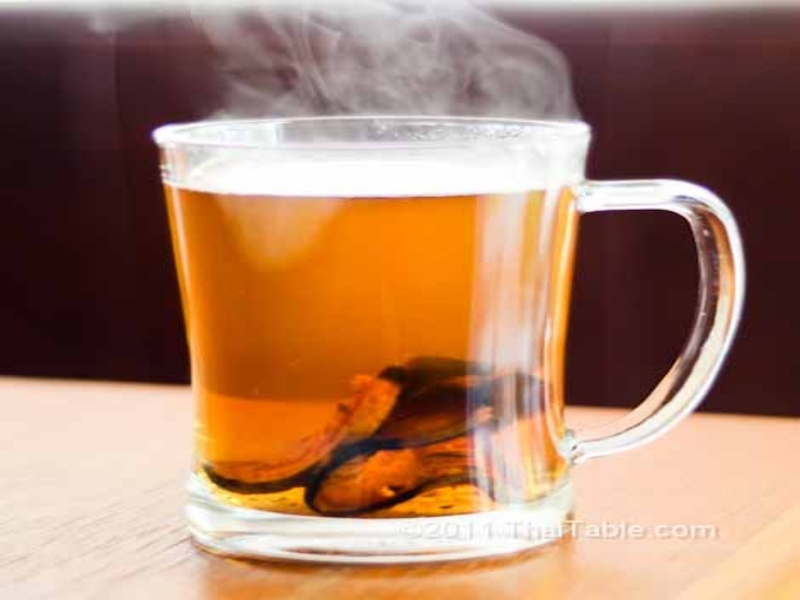smoke: (193, 2, 578, 122)
